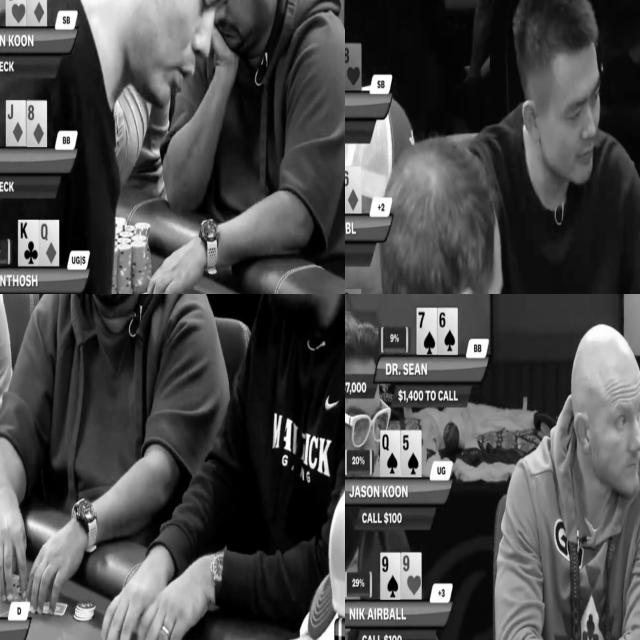3D: (26, 0, 47, 26)
3H: (5, 0, 26, 26)
5S: (402, 430, 422, 478)
6D: (345, 165, 360, 214)
6S: (438, 309, 457, 355)
7S: (417, 308, 437, 355)
8D: (27, 101, 47, 147)
8H: (345, 40, 361, 93)
9H: (402, 553, 421, 599)
9S: (381, 553, 400, 600)
JD: (6, 100, 27, 144)
KC: (18, 220, 39, 265)
QD: (39, 220, 60, 266)
QS: (380, 431, 400, 477)
